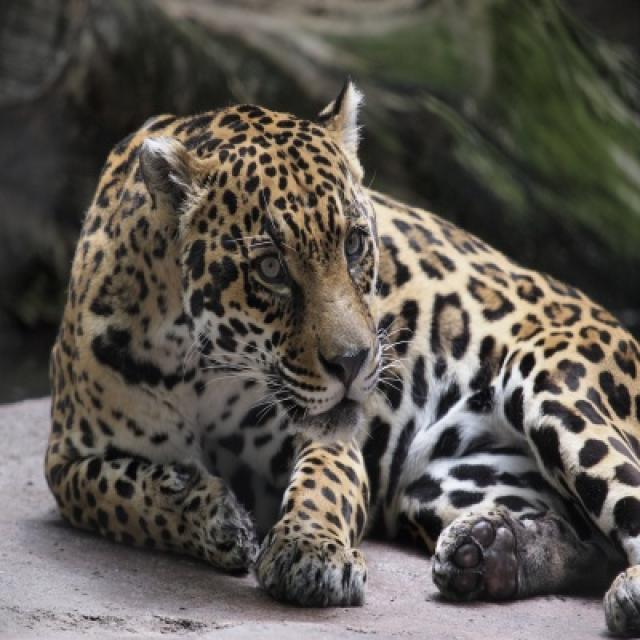Jaguar: (43, 80, 638, 638)
